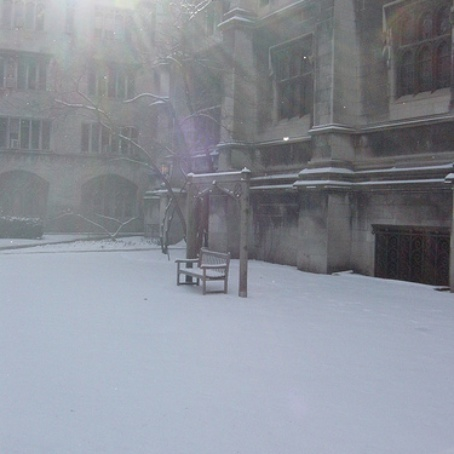bench: (179, 245, 234, 306)
building: (175, 1, 454, 267), (1, 1, 173, 234)
